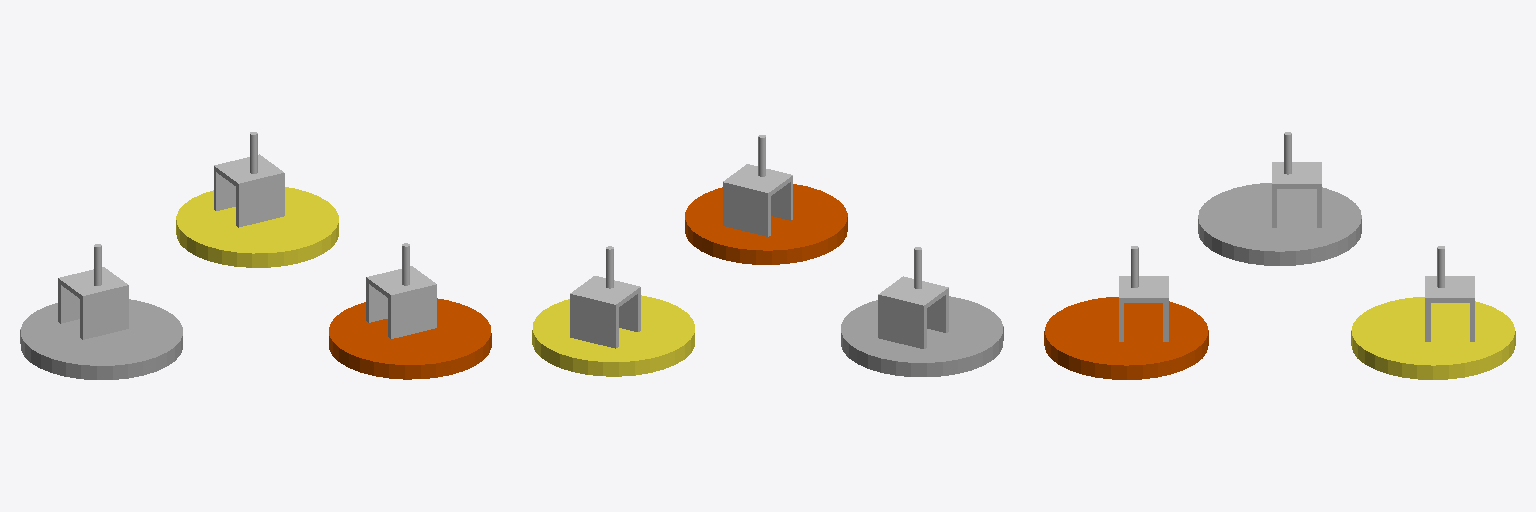
URDF robot description (bobik):
<?xml version="1.0" ?>
<!-- =================================================================================== -->
<!-- |    This document was autogenerated by xacro from bobik_robot.urdf.xacro         | -->
<!-- |    EDITING THIS FILE BY HAND IS NOT RECOMMENDED                                 | -->
<!-- =================================================================================== -->
<robot name="bobik">
  <!-- Init colour -->
  <material name="black">
    <color rgba="0.0 0.0 0.0 1.0"/>
  </material>
  <material name="dark">
    <color rgba="0.3 0.3 0.3 1.0"/>
  </material>
  <material name="light_black">
    <color rgba="0.4 0.4 0.4 1.0"/>
  </material>
  <material name="blue">
    <color rgba="0.0 0.0 0.8 1.0"/>
  </material>
  <material name="green">
    <color rgba="0.0 0.8 0.0 1.0"/>
  </material>
  <material name="grey">
    <color rgba="0.5 0.5 0.5 1.0"/>
  </material>
  <material name="orange">
    <color rgba="1.0 0.4235294117647059 0.0392156862745098 1.0"/>
  </material>
  <material name="brown">
    <color rgba="0.8705882352941177 0.8117647058823529 0.7647058823529411 1.0"/>
  </material>
  <material name="red">
    <color rgba="0.8 0.0 0.0 1.0"/>
  </material>
  <material name="white">
    <color rgba="1.0 1.0 1.0 1.0"/>
  </material>
  <gazebo reference="base_link">
    <material>Gazebo/DarkGrey</material>
  </gazebo>
  <gazebo reference="lf_caster_rotation_link">
    <mu1>0.1</mu1>
    <mu2>0.1</mu2>
    <kp>500000.0</kp>
    <kd>10.0</kd>
    <minDepth>0.001</minDepth>
    <maxVel>0.1</maxVel>
    <fdir1>1 0 0</fdir1>
    <material>Gazebo/FlatBlack</material>
  </gazebo>
  <gazebo reference="lr_caster_rotation_link">
    <mu1>0.1</mu1>
    <mu2>0.1</mu2>
    <kp>500000.0</kp>
    <kd>10.0</kd>
    <minDepth>0.001</minDepth>
    <maxVel>0.1</maxVel>
    <fdir1>1 0 0</fdir1>
    <material>Gazebo/FlatBlack</material>
  </gazebo>
  <gazebo reference="r_caster_rotation_link">
    <mu1>0.1</mu1>
    <mu2>0.1</mu2>
    <kp>1000000.0</kp>
    <kd>100.0</kd>
    <minDepth>0.001</minDepth>
    <maxVel>1.0</maxVel>
    <material>Gazebo/FlatBlack</material>
  </gazebo>
  <gazebo reference="imu_link">
    <sensor name="imu" type="imu">
      <always_on>true</always_on>
      <visualize>false</visualize>
    </sensor>
    <material>Gazebo/FlatBlack</material>
  </gazebo>
  <gazebo>
    <plugin filename="libgazebo_ros_diff_drive.so" name="turtlebot3_burger_controller">
      <commandTopic>cmd_vel</commandTopic>
      <odometryTopic>odom</odometryTopic>
      <odometryFrame>odom</odometryFrame>
      <odometrySource>world</odometrySource>
      <publishOdomTF>true</publishOdomTF>
      <robotBaseFrame>base_footprint</robotBaseFrame>
      <publishWheelTF>false</publishWheelTF>
      <publishTf>true</publishTf>
      <publishWheelJointState>true</publishWheelJointState>
      <legacyMode>false</legacyMode>
      <updateRate>20</updateRate>
      <leftJoint>lf_caster_rotation_link</leftJoint>
      <rightJoint>rf_caster_rotation_link</rightJoint>
      <wheelSeparation>0.46</wheelSeparation>
      <wheelDiameter>0.123</wheelDiameter>
      <wheelAcceleration>1</wheelAcceleration>
      <wheelTorque>10</wheelTorque>
      <rosDebugLevel>na</rosDebugLevel>
    </plugin>
  </gazebo>
  <gazebo>
    <plugin filename="libgazebo_ros_imu.so" name="imu_plugin">
      <alwaysOn>true</alwaysOn>
      <bodyName>imu_link</bodyName>
      <frameName>imu_link</frameName>
      <topicName>imu</topicName>
      <serviceName>imu_service</serviceName>
      <gaussianNoise>0.0</gaussianNoise>
      <updateRate>0</updateRate>
      <imu>
        <noise>
          <type>gaussian</type>
          <rate>
            <mean>0.0</mean>
            <stddev>2e-4</stddev>
            <bias_mean>0.0000075</bias_mean>
            <bias_stddev>0.0000008</bias_stddev>
          </rate>
          <accel>
            <mean>0.0</mean>
            <stddev>1.7e-2</stddev>
            <bias_mean>0.1</bias_mean>
            <bias_stddev>0.001</bias_stddev>
          </accel>
        </noise>
      </imu>
    </plugin>
  </gazebo>
  <gazebo reference="base_scan">
    <material>Gazebo/FlatBlack</material>
    <sensor name="lds_lfcd_sensor" type="ray">
      <pose>0 0 0 0 0 0</pose>
      <visualize>false</visualize>
      <update_rate>5</update_rate>
      <ray>
        <scan>
          <horizontal>
            <samples>360</samples>
            <resolution>1</resolution>
            <min_angle>0.0</min_angle>
            <max_angle>6.28319</max_angle>
          </horizontal>
        </scan>
        <range>
          <min>0.120</min>
          <max>3.5</max>
          <resolution>0.015</resolution>
        </range>
        <noise>
          <type>gaussian</type>
          <mean>0.0</mean>
          <stddev>0.01</stddev>
        </noise>
      </ray>
      <plugin filename="libgazebo_ros_laser.so" name="gazebo_ros_lds_lfcd_controller">
        <topicName>scan</topicName>
        <frameName>base_scan</frameName>
      </plugin>
    </sensor>
  </gazebo>
  <material name="jetson">
    <texture filename="package://bobik_robot/meshes/wheel.png"/>
  </material>
  <!-- root_link is a workaround for base_link to have an inertia mass -->
  <link name="base_footprint"/>
  <joint name="root_joint" type="fixed">
    <parent link="base_footprint"/>
    <child link="base_link"/>
  </joint>
  <link name="base_link">
    <visual>
      <origin rpy="0 0 0" xyz="0 0 0"/>
      <geometry>
        <mesh filename="file://[local-path]/ros2_foxy/src/bobik_robot/meshes/base_link.dae"/>
      </geometry>
    </visual>
    <collision>
      <origin rpy="0 0 0" xyz="0 0 0"/>
      <geometry>
        <box size="0.5 0.5 0.2"/>
      </geometry>
    </collision>
    <inertial>
      <origin rpy="0 0 0" xyz="0 0 0"/>
      <mass value="1.5"/>
      <inertia ixx="2.2124416e-03" ixy="-1.2294101e-05" ixz="3.4938785e-05" iyy="2.1193702e-03" iyz="-5.0120904e-06" izz="2.0064271e-03"/>
    </inertial>
  </link>
  <joint name="fl_caster_rotation_joint" type="revolute">
    <parent link="base_link"/>
    <child link="fl_caster_rotation_link"/>
    <origin rpy="0 0 0.0" xyz="0.224 0.23 0.08"/>
    <axis xyz="0 0 1"/>
    <limit effort="20" lower="-1.5707963267948966" upper="1.5707963267948966" velocity="3.141592653589793"/>
  </joint>
  <link name="fl_caster_rotation_link">
    <visual>
      <origin rpy="0 0 0" xyz="-0.04 -0.024 -0.025"/>
      <geometry>
        <mesh filename="package://bobik_robot/meshes/caster_rotation_link.dae"/>
      </geometry>
    </visual>
    <collision>
      <origin rpy="0 0 0" xyz="0 0.013 0.029"/>
      <geometry>
        <box size="0.08 0.075 0.11"/>
      </geometry>
    </collision>
    <inertial>
      <origin rpy="0 0 0" xyz="-0.04 -0.026 -0.025"/>
      <mass value="0.5"/>
      <inertia ixx="2.2124416e-03" ixy="-1.2294101e-05" ixz="3.4938785e-05" iyy="2.1193702e-03" iyz="-5.0120904e-06" izz="2.0064271e-03"/>
    </inertial>
  </link>
  <joint name="fl_caster_wheel_joint" type="continuous">
    <parent link="fl_caster_rotation_link"/>
    <child link="fl_caster_wheel_link"/>
    <origin rpy="0 0 0" xyz="0 0 0"/>
    <axis xyz="0 1 0"/>
    <limit effort="30" velocity="6.283185307179586"/>
  </joint>
  <link name="fl_caster_wheel_link">
    <visual>
      <origin rpy="0 0 0" xyz="0 -0.012 0"/>
      <geometry>
        <cylinder length="0.024" radius="0.123"/>
      </geometry>
      <material name="jetson"/>
    </visual>
    <collision>
      <origin rpy="0 0 0" xyz="0 0 0"/>
      <geometry>
        <box size="0.123 0.024 0.123"/>
      </geometry>
    </collision>
    <inertial>
      <origin rpy="0 0 0" xyz="0 0 0"/>
      <mass value="0.15"/>
      <inertia ixx="2.2124416e-03" ixy="-1.2294101e-05" ixz="3.4938785e-05" iyy="2.1193702e-03" iyz="-5.0120904e-06" izz="2.0064271e-03"/>
    </inertial>
  </link>
  <joint name="fr_caster_rotation_joint" type="revolute">
    <parent link="base_link"/>
    <child link="fr_caster_rotation_link"/>
    <origin rpy="0 0 0.0" xyz="0.224 -0.23 0.08"/>
    <axis xyz="0 0 1"/>
    <limit effort="20" lower="-1.5707963267948966" upper="1.5707963267948966" velocity="3.141592653589793"/>
  </joint>
  <link name="fr_caster_rotation_link">
    <visual>
      <origin rpy="0 0 0" xyz="-0.04 -0.024 -0.025"/>
      <geometry>
        <mesh filename="package://bobik_robot/meshes/caster_rotation_link.dae"/>
      </geometry>
    </visual>
    <collision>
      <origin rpy="0 0 0" xyz="0 0.013 0.029"/>
      <geometry>
        <box size="0.08 0.075 0.11"/>
      </geometry>
    </collision>
    <inertial>
      <origin rpy="0 0 0" xyz="-0.04 -0.026 -0.025"/>
      <mass value="0.5"/>
      <inertia ixx="2.2124416e-03" ixy="-1.2294101e-05" ixz="3.4938785e-05" iyy="2.1193702e-03" iyz="-5.0120904e-06" izz="2.0064271e-03"/>
    </inertial>
  </link>
  <joint name="fr_caster_wheel_joint" type="continuous">
    <parent link="fr_caster_rotation_link"/>
    <child link="fr_caster_wheel_link"/>
    <origin rpy="0 0 0" xyz="0 0 0"/>
    <axis xyz="0 1 0"/>
    <limit effort="30" velocity="6.283185307179586"/>
  </joint>
  <link name="fr_caster_wheel_link">
    <visual>
      <origin rpy="0 0 0" xyz="0 -0.012 0"/>
      <geometry>
        <cylinder length="0.024" radius="0.123"/>
      </geometry>
      <material name="jetson"/>
    </visual>
    <collision>
      <origin rpy="0 0 0" xyz="0 0 0"/>
      <geometry>
        <box size="0.123 0.024 0.123"/>
      </geometry>
    </collision>
    <inertial>
      <origin rpy="0 0 0" xyz="0 0 0"/>
      <mass value="0.15"/>
      <inertia ixx="2.2124416e-03" ixy="-1.2294101e-05" ixz="3.4938785e-05" iyy="2.1193702e-03" iyz="-5.0120904e-06" izz="2.0064271e-03"/>
    </inertial>
  </link>
  <joint name="r_caster_rotation_joint" type="revolute">
    <parent link="base_link"/>
    <child link="r_caster_rotation_link"/>
    <origin rpy="0 0 0.0" xyz="-0.18 0.0 0.08"/>
    <axis xyz="0 0 1"/>
    <limit effort="20" lower="-1.5707963267948966" upper="1.5707963267948966" velocity="3.141592653589793"/>
  </joint>
  <link name="r_caster_rotation_link">
    <visual>
      <origin rpy="0 0 0" xyz="-0.04 -0.024 -0.025"/>
      <geometry>
        <mesh filename="package://bobik_robot/meshes/caster_rotation_link.dae"/>
      </geometry>
    </visual>
    <collision>
      <origin rpy="0 0 0" xyz="0 0.013 0.029"/>
      <geometry>
        <box size="0.08 0.075 0.11"/>
      </geometry>
    </collision>
    <inertial>
      <origin rpy="0 0 0" xyz="-0.04 -0.026 -0.025"/>
      <mass value="0.5"/>
      <inertia ixx="2.2124416e-03" ixy="-1.2294101e-05" ixz="3.4938785e-05" iyy="2.1193702e-03" iyz="-5.0120904e-06" izz="2.0064271e-03"/>
    </inertial>
  </link>
  <joint name="r_caster_wheel_joint" type="continuous">
    <parent link="r_caster_rotation_link"/>
    <child link="r_caster_wheel_link"/>
    <origin rpy="0 0 0" xyz="0 0 0"/>
    <axis xyz="0 1 0"/>
    <limit effort="30" velocity="6.283185307179586"/>
  </joint>
  <link name="r_caster_wheel_link">
    <visual>
      <origin rpy="0 0 0" xyz="0 -0.012 0"/>
      <geometry>
        <cylinder length="0.024" radius="0.123"/>
      </geometry>
      <material name="jetson"/>
    </visual>
    <collision>
      <origin rpy="0 0 0" xyz="0 0 0"/>
      <geometry>
        <box size="0.123 0.024 0.123"/>
      </geometry>
    </collision>
    <inertial>
      <origin rpy="0 0 0" xyz="0 0 0"/>
      <mass value="0.15"/>
      <inertia ixx="2.2124416e-03" ixy="-1.2294101e-05" ixz="3.4938785e-05" iyy="2.1193702e-03" iyz="-5.0120904e-06" izz="2.0064271e-03"/>
    </inertial>
  </link>
</robot>

--- Render facts (derived) ---
Views: 3 orthographic renders of the robot side by side, from view 1: azimuth 30°, elevation 25°; view 2: azimuth 150°, elevation 25°; view 3: azimuth 270°, elevation 25°.
Model bobik with 8 links and 7 joints (3 revolute, 3 continuous, 1 fixed), rooted at base_footprint, posed all joints at 0.
Visible links, largest first — view 1: fl_caster_wheel_link, fr_caster_wheel_link, r_caster_wheel_link, fr_caster_rotation_link, r_caster_rotation_link, fl_caster_rotation_link; view 2: fr_caster_wheel_link, fl_caster_wheel_link, r_caster_wheel_link, fl_caster_rotation_link, r_caster_rotation_link, fr_caster_rotation_link; view 3: r_caster_wheel_link, fr_caster_wheel_link, fl_caster_wheel_link, fl_caster_rotation_link, fr_caster_rotation_link, r_caster_rotation_link.
Link boxes in pixels (x1=…): fl_caster_wheel_link: x1=176, y1=187, x2=338, y2=267; fr_caster_wheel_link: x1=329, y1=298, x2=491, y2=379; r_caster_wheel_link: x1=20, y1=299, x2=182, y2=379; fr_caster_rotation_link: x1=366, y1=243, x2=436, y2=338; r_caster_rotation_link: x1=58, y1=244, x2=128, y2=339; fl_caster_rotation_link: x1=214, y1=132, x2=284, y2=227; fr_caster_wheel_link: x1=685, y1=184, x2=847, y2=264; fl_caster_wheel_link: x1=532, y1=295, x2=694, y2=376; r_caster_wheel_link: x1=841, y1=296, x2=1003, y2=376; fl_caster_rotation_link: x1=570, y1=246, x2=640, y2=348; r_caster_rotation_link: x1=878, y1=247, x2=948, y2=348; fr_caster_rotation_link: x1=723, y1=135, x2=792, y2=236; r_caster_wheel_link: x1=1198, y1=183, x2=1361, y2=265; fr_caster_wheel_link: x1=1044, y1=297, x2=1208, y2=379; fl_caster_wheel_link: x1=1351, y1=297, x2=1515, y2=379; fl_caster_rotation_link: x1=1425, y1=246, x2=1474, y2=341; fr_caster_rotation_link: x1=1119, y1=246, x2=1168, y2=341; r_caster_rotation_link: x1=1272, y1=132, x2=1321, y2=227.
Bounding box of the posed robot: 0.65 × 0.706 × 0.175 m (x, y, z).
Meshes: 1 distinct files referenced, 3 mesh visuals loaded (1 Collada DAE); not drawn: 1 (reference in a form the renderer does not follow; not among the files counted above).
